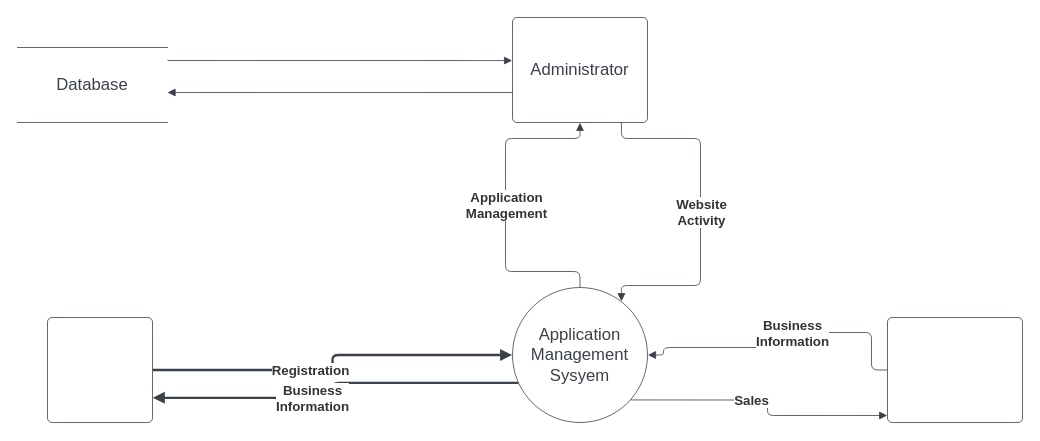
This 1040x441 diagram has some shape labels left out. Here are the shapes that lost their labels. From the top down, the centre of each, then its label:
(99,369): Customer
(954,369): Business
